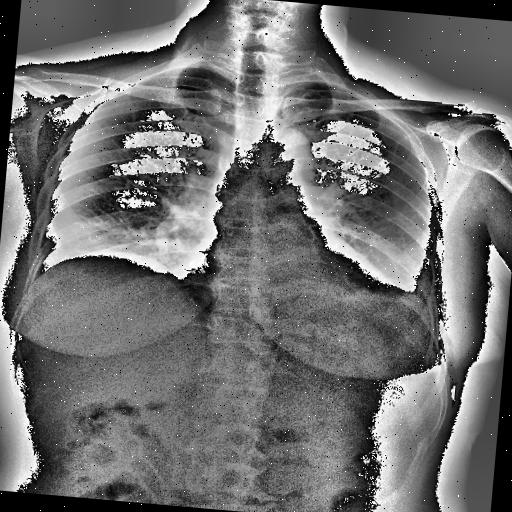0- Aortic enlargement: (252, 123, 312, 191)
3- Cardiomegaly: (166, 250, 412, 332), (167, 244, 414, 324), (167, 250, 407, 308)
